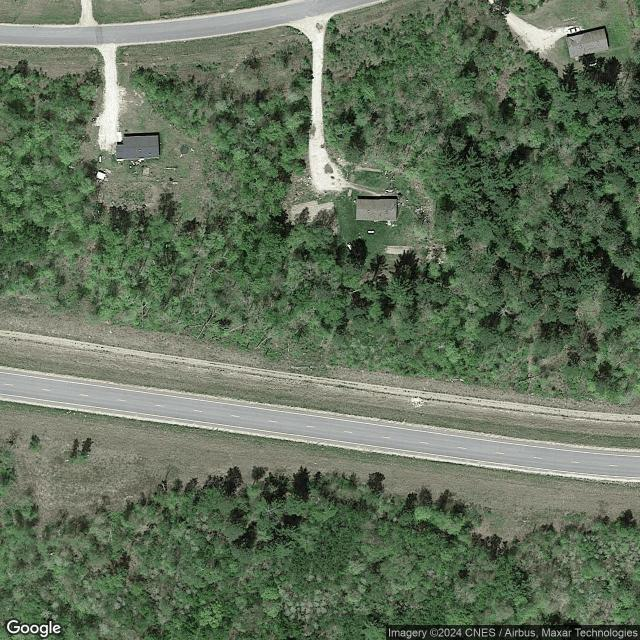Propane: (588, 62, 598, 67), (367, 229, 376, 234), (98, 154, 102, 164)
